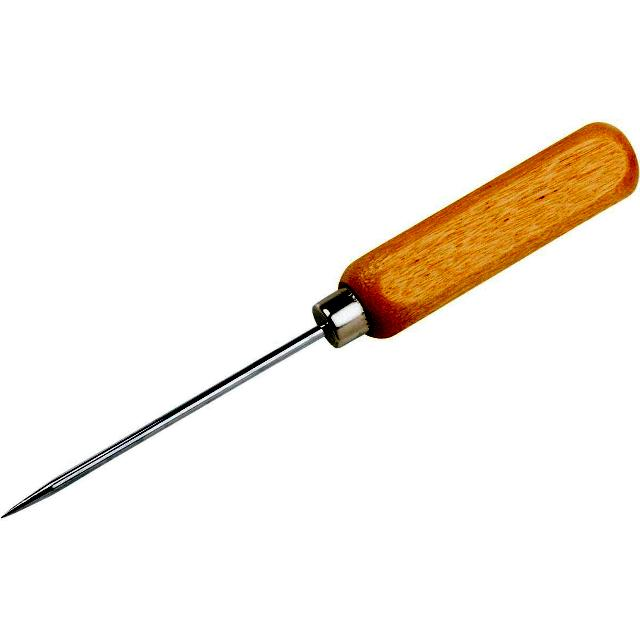ice pick: (1, 120, 640, 520)
